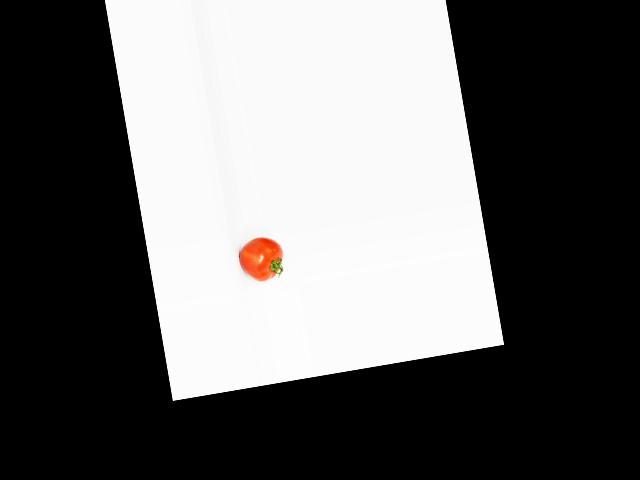tomato: (236, 233, 287, 284)
